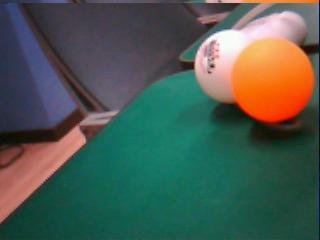oball: (230, 37, 315, 121)
